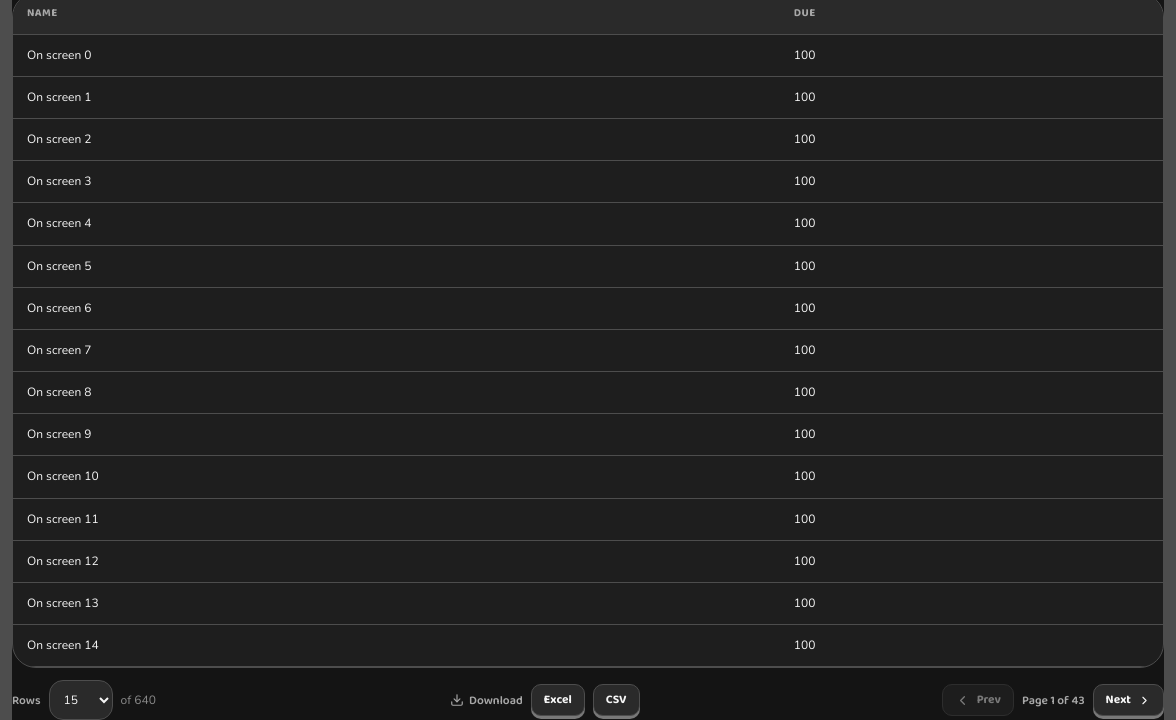
Test: refuses to save a file that is short of the count the table is showing
Click the button with test id "fees-export-xlsx" at x=558, y=700, box [531, 684, 585, 716]
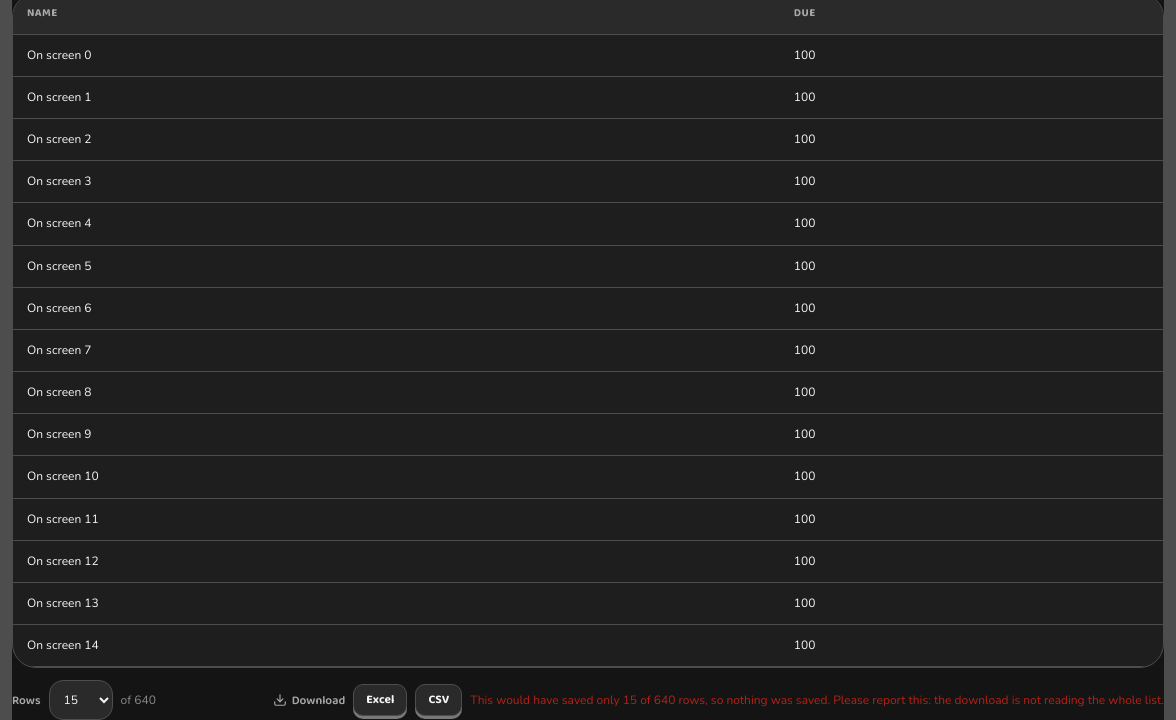
Result: the text with test id "fees-export-status" shows "only 15 of 640 rows, so nothing was saved" at [470, 692, 1164, 708]
